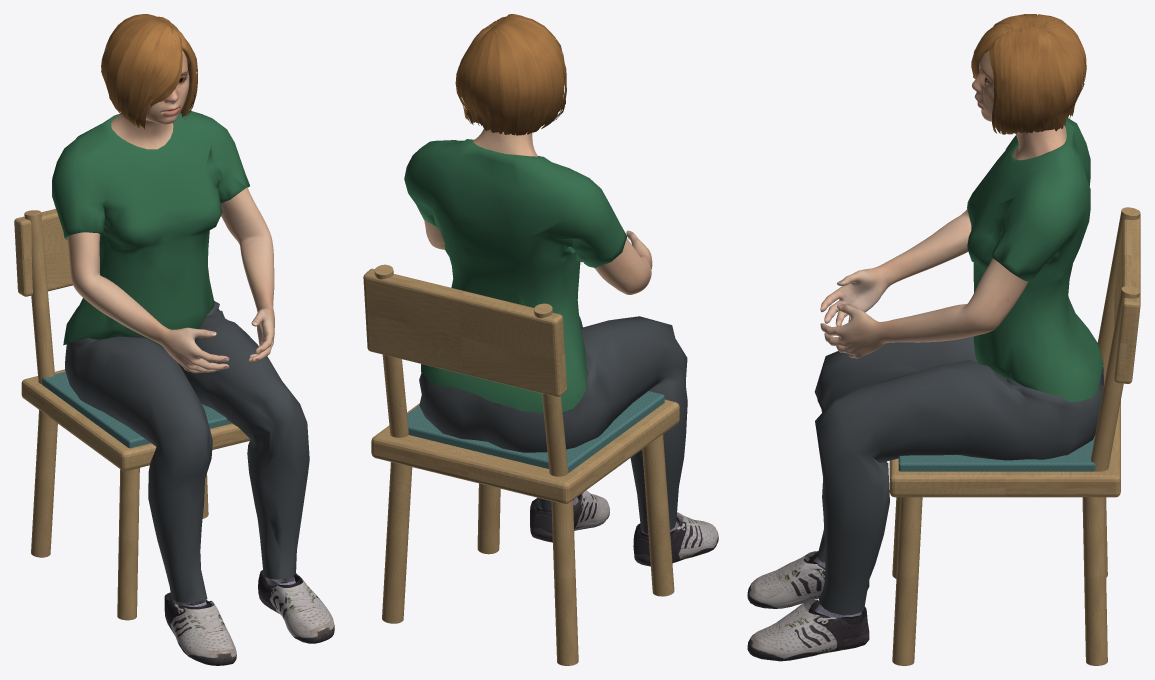
Rendered from seated-woman.glb.
3 views of the same model, side by side, from view 1: azimuth 30°, elevation 25°; view 2: azimuth 150°, elevation 25°; view 3: azimuth 270°, elevation 25° (orthographic). The views are drawn at different scales.
Visible parts, largest first — view 1: female_casualsuit01, Taylor | anatomical body, bob02, shoes05, Chair | rounded timber seat, Chair | shaped backrest, Chair | splayed solid timber leg, Chair | splayed solid timber leg.001, Chair | backrest upright, Chair | discreet seat pad; view 2: female_casualsuit01, Chair | shaped backrest, bob02, Chair | rounded timber seat, shoes05, Chair | discreet seat pad, Chair | splayed solid timber leg.001, Taylor | anatomical body, Chair | splayed solid timber leg.003, Chair | splayed solid timber leg, Chair | backrest upright, Chair | backrest upright.001 (+1 smaller); view 3: female_casualsuit01, Taylor | anatomical body, bob02, shoes05, Chair | rounded timber seat, Chair | splayed solid timber leg.002, Chair | splayed solid timber leg.003, Chair | shaped backrest, Chair | discreet seat pad, Chair | backrest upright.001, Chair | backrest upright.
Part boxes in pixels (x1,y1,x2,y2): female_casualsuit01: (52,110,309,602); Taylor | anatomical body: (67,50,274,373); bob02: (101,14,197,129); shoes05: (164,570,334,665); Chair | rounded timber seat: (21,369,250,471); Chair | shaped backrest: (14,209,72,296); Chair | splayed solid timber leg: (117,468,139,620); Chair | splayed solid timber leg.001: (31,410,57,557); Chair | backrest upright: (24,210,54,384); Chair | discreet seat pad: (42,371,231,448); female_casualsuit01: (404,139,687,533); Chair | shaped backrest: (363,268,566,396); bob02: (455,14,566,135); Chair | rounded timber seat: (371,399,679,504); shoes05: (530,490,718,566); Chair | discreet seat pad: (407,391,664,472); Chair | splayed solid timber leg.001: (551,500,578,665); Taylor | anatomical body: (424,128,652,294); Chair | splayed solid timber leg.003: (382,462,412,623); Chair | splayed solid timber leg: (642,434,674,596); Chair | backrest upright: (533,303,567,476); Chair | backrest upright.001: (374,264,408,437); female_casualsuit01: (814,118,1103,615); Taylor | anatomical body: (820,50,1066,358); bob02: (971,14,1086,134); shoes05: (747,551,869,661); Chair | rounded timber seat: (889,400,1120,497); Chair | splayed solid timber leg.002: (892,497,922,665); Chair | splayed solid timber leg.003: (1082,497,1107,665); Chair | shaped backrest: (1114,210,1140,383); Chair | discreet seat pad: (898,436,1095,471); Chair | backrest upright.001: (1091,286,1140,471); Chair | backrest upright: (1097,207,1140,386).
Size of the model in its own units: 0.4983 by 1.34 by 0.782.
Materials: 11 (11 with a texture image).
